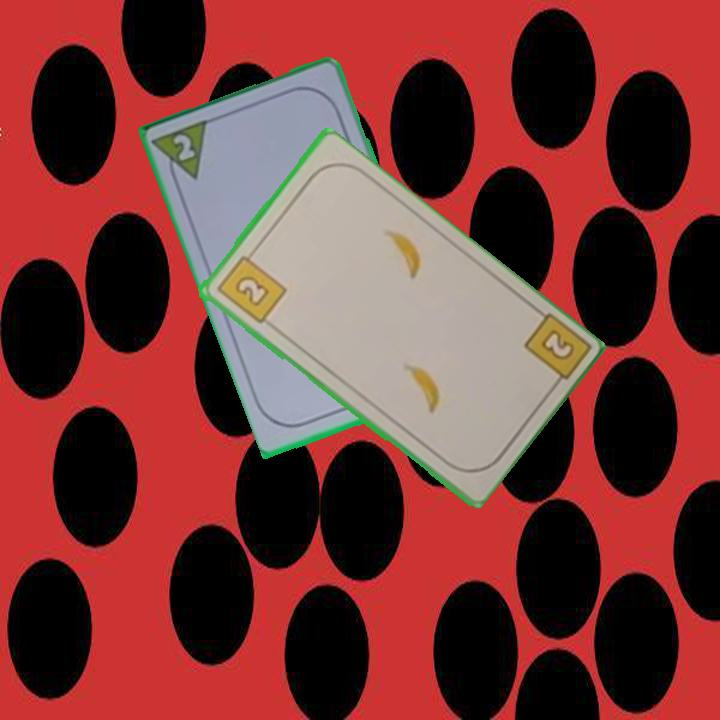2b: (212, 246, 289, 327), (519, 309, 590, 395)
2p: (151, 115, 214, 191)
